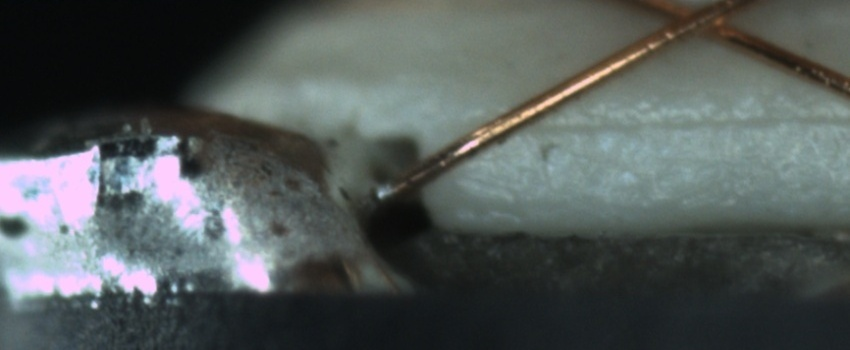CL: (645, 2, 756, 45)
DL: (515, 95, 849, 160)
